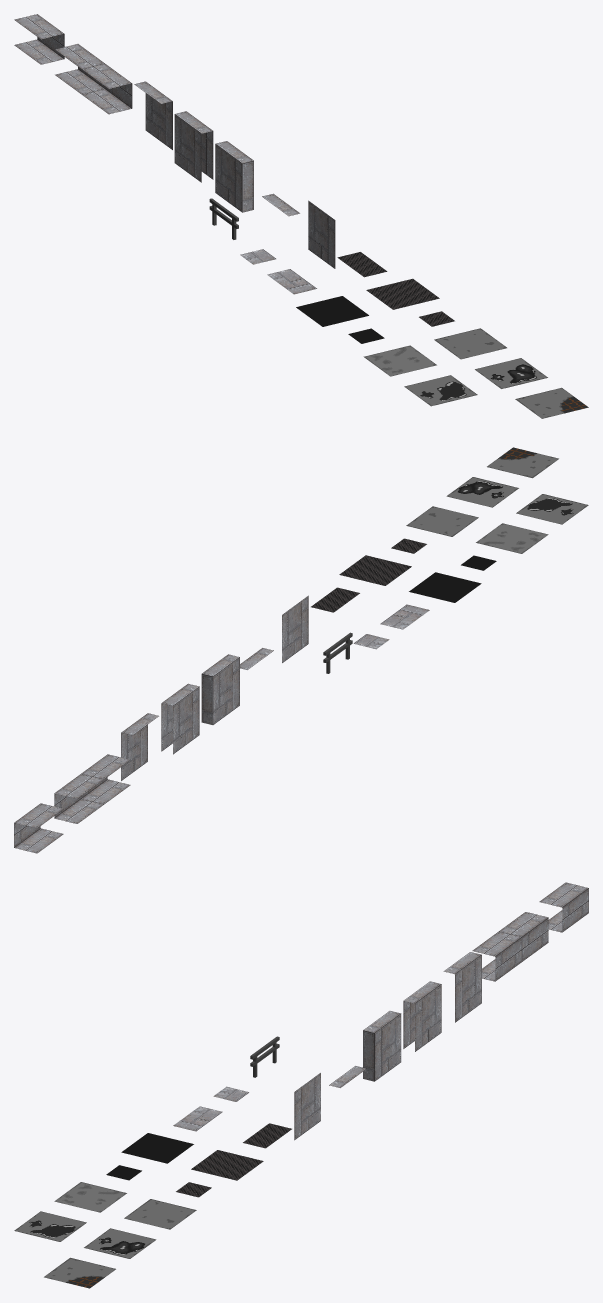
File: Arena2.glb
3 views of the same model, one above another, from view 1: azimuth 30°, elevation 25°; view 2: azimuth 150°, elevation 25°; view 3: azimuth 330°, elevation 25° (orthographic).
Parts seen in each view (by area): view 1: Pole, ClosedWall, OpenWall, Pole.002, OpenWall.002, WallPanel, ConcreteFloor1, ConcreteFloor2, OilSpillAlternative, Floor, ConcreteFloorBroken, WallBlack.2x2 (+3 smaller); view 2: Pole, ClosedWall, OpenWall, Pole.002, OpenWall.002, WallPanel, OilSpill, OilSpillAlternative, ConcreteFloorBroken, ConcreteFloor1, ConcreteFloor2, Floor (+3 smaller); view 3: Pole, ClosedWall, OpenWall, OpenWall.002, Pole.002, WallPanel, OilSpill, OilSpillAlternative, ConcreteFloorBroken, ConcreteFloor1, ConcreteFloor2, Floor (+3 smaller).
Boxes of the visible parts, x1=… form: Pole: x1=55, y1=44, x2=132, y2=114; ClosedWall: x1=215, y1=141, x2=253, y2=212; OpenWall: x1=174, y1=111, x2=213, y2=182; Pole.002: x1=14, y1=14, x2=64, y2=64; OpenWall.002: x1=134, y1=81, x2=172, y2=149; WallPanel: x1=308, y1=200, x2=335, y2=268; ConcreteFloor1: x1=434, y1=328, x2=506, y2=359; ConcreteFloor2: x1=363, y1=345, x2=436, y2=376; OilSpillAlternative: x1=404, y1=375, x2=477, y2=406; Floor: x1=366, y1=278, x2=439, y2=309; ConcreteFloorBroken: x1=515, y1=387, x2=588, y2=418; WallBlack.2x2: x1=296, y1=296, x2=368, y2=326; Pole: x1=54, y1=754, x2=130, y2=823; ClosedWall: x1=201, y1=654, x2=239, y2=724; OpenWall: x1=161, y1=683, x2=199, y2=754; Pole.002: x1=14, y1=803, x2=63, y2=853; OpenWall.002: x1=121, y1=713, x2=158, y2=780; WallPanel: x1=282, y1=595, x2=308, y2=662; OilSpill: x1=446, y1=477, x2=518, y2=507; OilSpillAlternative: x1=516, y1=494, x2=588, y2=524; ConcreteFloorBroken: x1=487, y1=447, x2=558, y2=478; ConcreteFloor1: x1=406, y1=506, x2=478, y2=536; ConcreteFloor2: x1=476, y1=523, x2=548, y2=553; Floor: x1=339, y1=555, x2=411, y2=585; Pole: x1=472, y1=912, x2=548, y2=981; ClosedWall: x1=363, y1=1011, x2=401, y2=1081; OpenWall: x1=403, y1=981, x2=441, y2=1051; OpenWall.002: x1=443, y1=952, x2=481, y2=1022; Pole.002: x1=539, y1=882, x2=588, y2=932; WallPanel: x1=294, y1=1073, x2=320, y2=1140; OilSpill: x1=84, y1=1228, x2=156, y2=1258; OilSpillAlternative: x1=14, y1=1211, x2=86, y2=1241; ConcreteFloorBroken: x1=44, y1=1257, x2=115, y2=1288; ConcreteFloor1: x1=124, y1=1199, x2=196, y2=1229; ConcreteFloor2: x1=54, y1=1182, x2=126, y2=1212; Floor: x1=191, y1=1150, x2=263, y2=1180.
Bounding box in the file's own units: 5 × 2 × 39.
Materials: 11 (9 with a texture image).
